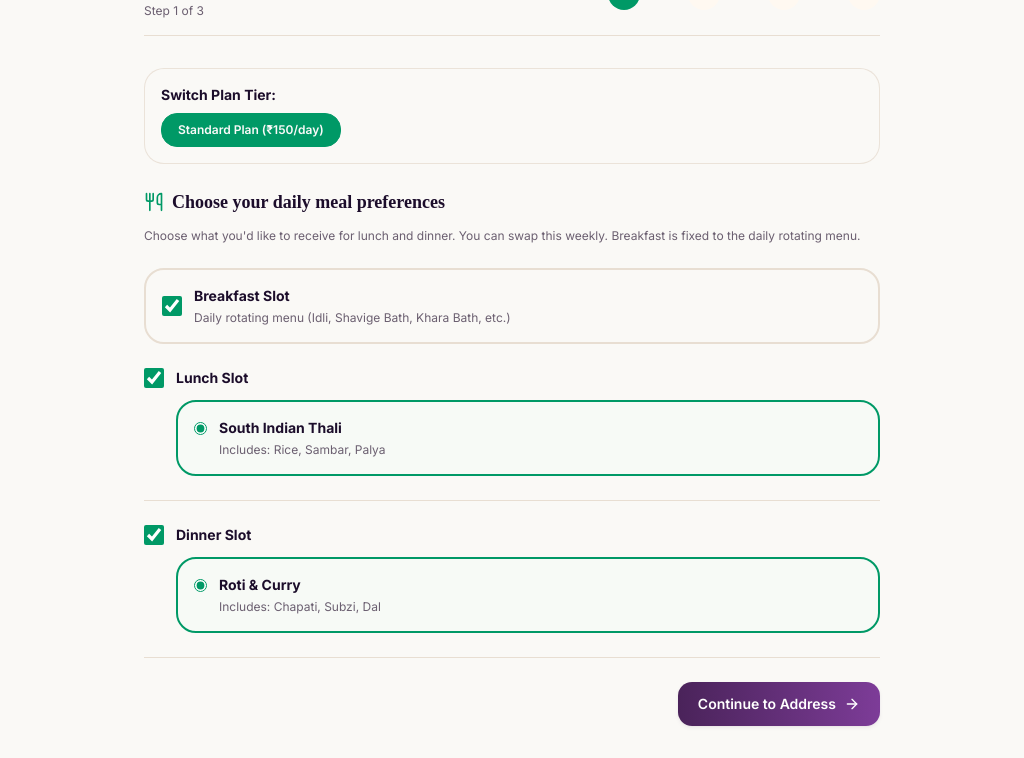
Test: Address & Pincode Confirmation UX (Part 3 & Part 8 Requirements) › Step 2 does NOT automatically confirm or pre-select any address on load
(page scrolled)
Expected: the button "Standard Plan (₹150/day)" is shown, [161, 113, 341, 147]
Step 1. Click the button "Continue to Address" → [779, 704], box [678, 682, 880, 726]
(page scrolled)
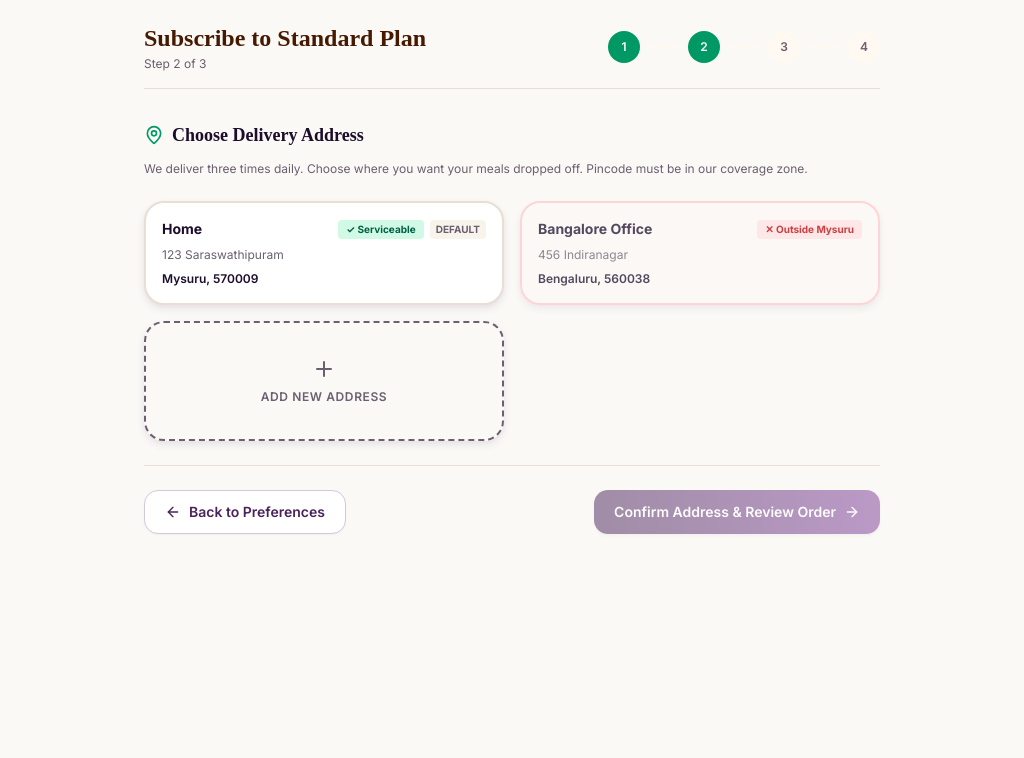
Result: the button "Confirm Address & Review Order" is disabled at [594, 490, 880, 534]
